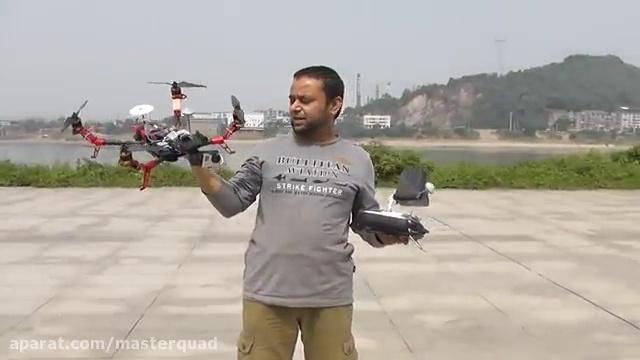drone: (55, 77, 248, 191)
